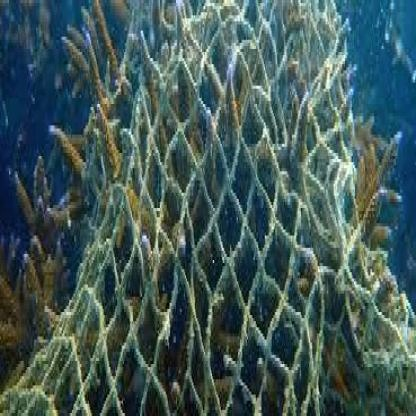net: (18, 3, 416, 416)
